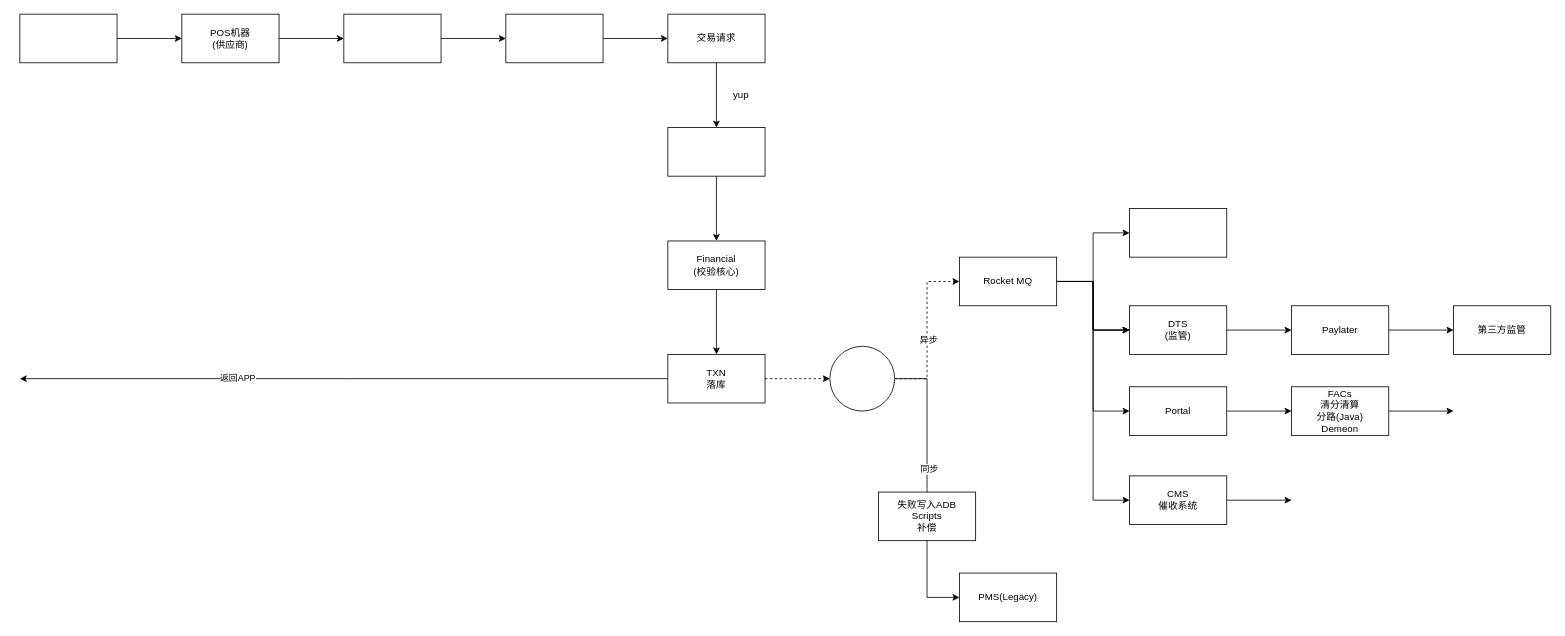
Image size: 1565x636. Some labels were removed from this diagram. Here are the shapes that lost their labels. From the top down, the box of each, then its label:
(19, 13, 117, 63): Yup卡
(343, 13, 441, 63): 银联
(505, 13, 603, 63): XX银行
(667, 127, 765, 176): PMS
(1129, 208, 1227, 257): Notify Customer (Java)
(829, 345, 895, 411): Notify
